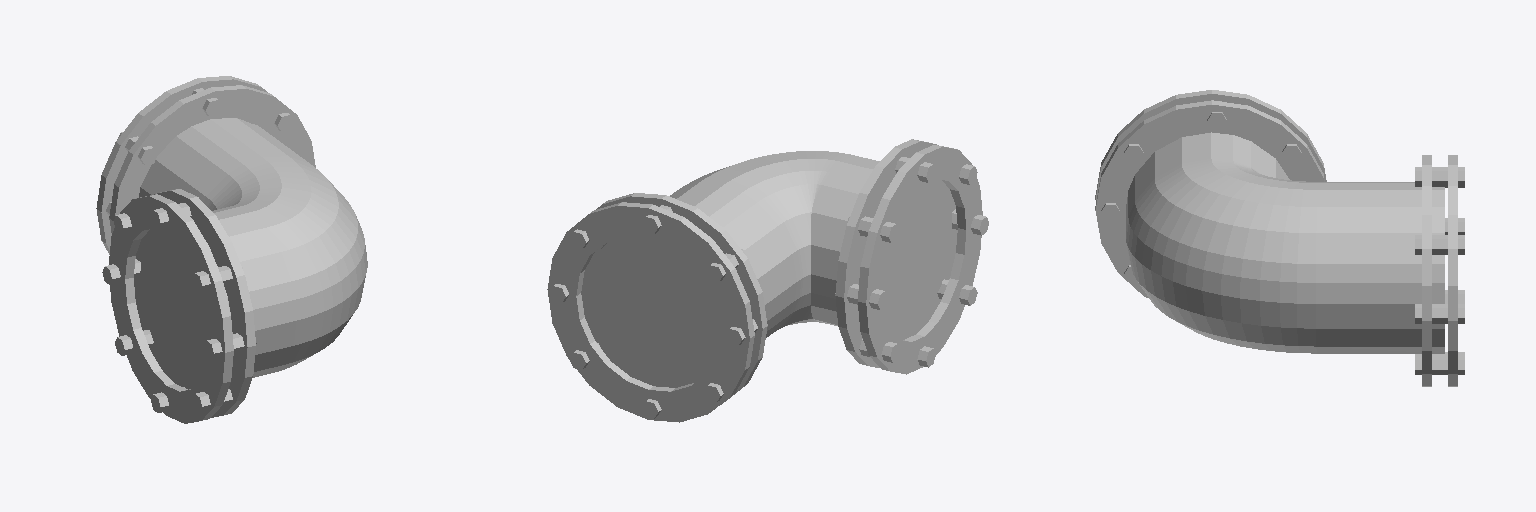
The model's file is guandaowan.obj.
3 views of the same model, side by side, from view 1: azimuth 30°, elevation 25°; view 2: azimuth 150°, elevation 25°; view 3: azimuth 270°, elevation 25° (orthographic).
Visible parts, largest first — view 1: __.1, __, ___1, __.3, __.2; view 2: __.1, ___2, __.2, __, ___1, __.3; view 3: __.1, __, __.2, __.3, ___2.
Part boxes in pixels (bbox=[...]): __.1: bbox=[105, 88, 367, 417]; __: bbox=[109, 194, 233, 423]; ___1: bbox=[102, 100, 294, 412]; __.3: bbox=[109, 85, 315, 232]; __.2: bbox=[96, 76, 267, 254]; __.1: bbox=[554, 139, 985, 418]; ___2: bbox=[549, 217, 741, 418]; __.2: bbox=[547, 202, 754, 422]; __: bbox=[858, 145, 982, 374]; ___1: bbox=[878, 164, 988, 366]; __.3: bbox=[581, 193, 767, 404]; __.1: bbox=[1095, 100, 1464, 374]; __: bbox=[1095, 90, 1326, 199]; __.2: bbox=[1448, 155, 1457, 386]; __.3: bbox=[1422, 155, 1431, 386]; ___2: bbox=[1101, 113, 1301, 281].
Bounding box in the file's own units: 139 × 107 × 169.